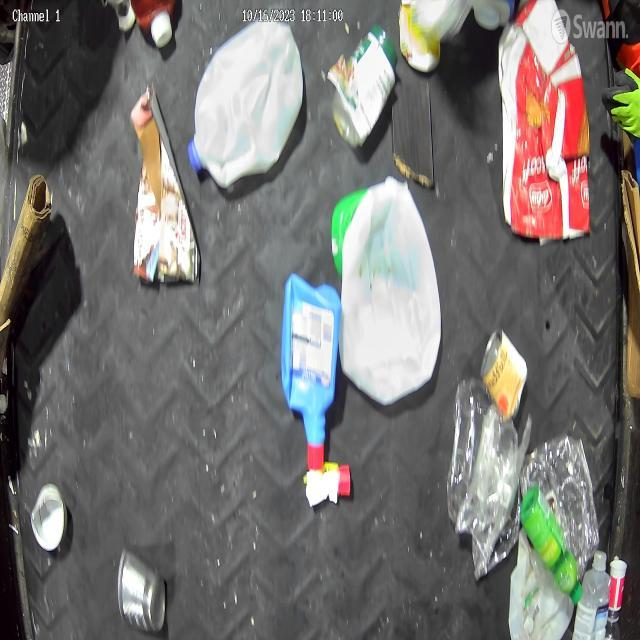can: (115, 545, 163, 640), (481, 328, 528, 420)
milk_jug: (341, 177, 438, 406), (188, 18, 306, 190)
non_white_jug: (284, 272, 336, 462)
